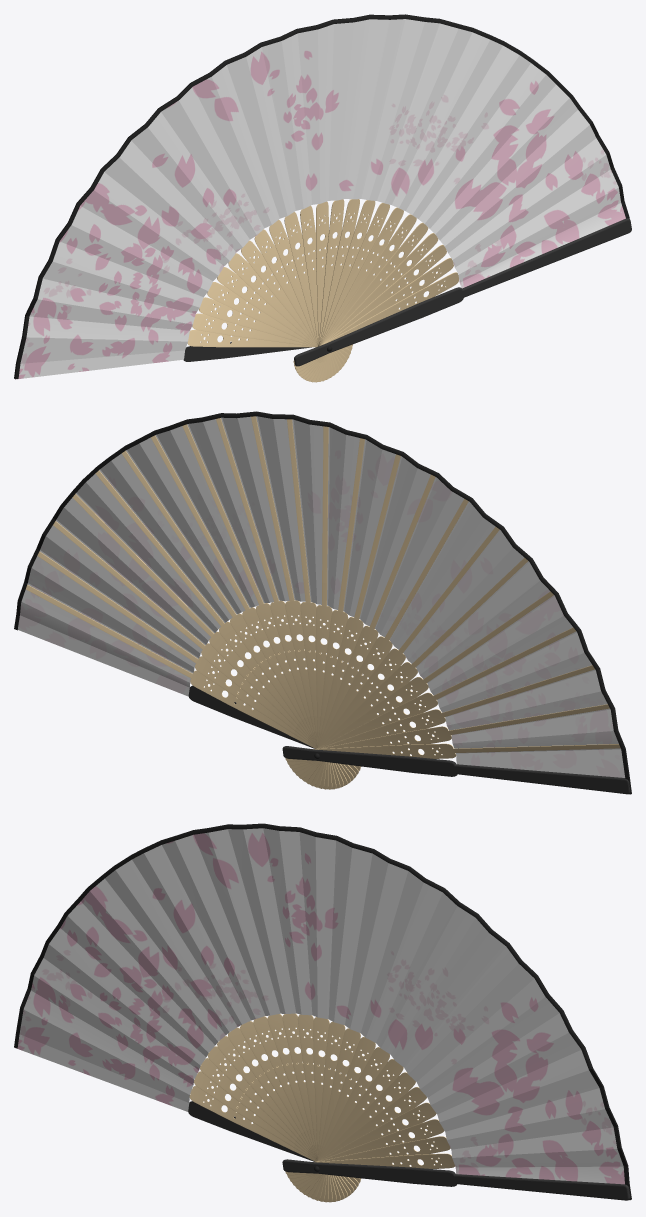
File: folding_fan.glb
3 renders of one model, top to bottom at view 1: azimuth 30°, elevation 25°; view 2: azimuth 150°, elevation 25°; view 3: azimuth 330°, elevation 25°, orthographic. The views are drawn at different scales.
Parts seen in each view (by area): view 1: Object_11, Object_10, Object_7, Object_4, Object_6, Object_3, Object_5, Object_8, Object_13, Object_14; view 2: Object_12, Object_3, Object_4, Object_7, Object_6, Object_5, Object_10, Object_8, Object_14, Object_13; view 3: Object_11, Object_10, Object_7, Object_4, Object_6, Object_3, Object_5, Object_8, Object_13, Object_14.
Part boxes in pixels (x1=…): Object_11: x1=15, y1=19, x2=625, y2=379; Object_10: x1=183, y1=218, x2=631, y2=366; Object_7: x1=284, y1=199, x2=359, y2=381; Object_4: x1=241, y1=203, x2=428, y2=381; Object_6: x1=187, y1=220, x2=352, y2=376; Object_3: x1=293, y1=227, x2=458, y2=377; Object_5: x1=192, y1=240, x2=352, y2=367; Object_8: x1=311, y1=199, x2=389, y2=382; Object_13: x1=14, y1=14, x2=629, y2=379; Object_14: x1=68, y1=14, x2=621, y2=223; Object_12: x1=17, y1=416, x2=625, y2=777; Object_3: x1=26, y1=470, x2=360, y2=780; Object_4: x1=99, y1=424, x2=499, y2=787; Object_7: x1=287, y1=419, x2=400, y2=789; Object_6: x1=285, y1=474, x2=614, y2=786; Object_5: x1=287, y1=531, x2=620, y2=781; Object_10: x1=188, y1=685, x2=630, y2=794; Object_8: x1=187, y1=416, x2=343, y2=789; Object_14: x1=24, y1=411, x2=580, y2=631; Object_13: x1=14, y1=412, x2=631, y2=794; Object_11: x1=14, y1=828, x2=630, y2=1200; Object_10: x1=188, y1=1101, x2=630, y2=1200; Object_7: x1=282, y1=1013, x2=360, y2=1202; Object_4: x1=242, y1=1016, x2=426, y2=1199; Object_6: x1=189, y1=1014, x2=361, y2=1201; Object_3: x1=285, y1=1093, x2=454, y2=1185; Object_5: x1=190, y1=1021, x2=360, y2=1198; Object_8: x1=306, y1=1028, x2=389, y2=1199; Object_13: x1=14, y1=823, x2=631, y2=1199; Object_14: x1=102, y1=823, x2=621, y2=1148.
Bounding box in the file's own units: 7.2 × 4.04 × 0.2903.
Materials: 8 (2 with a texture image).
